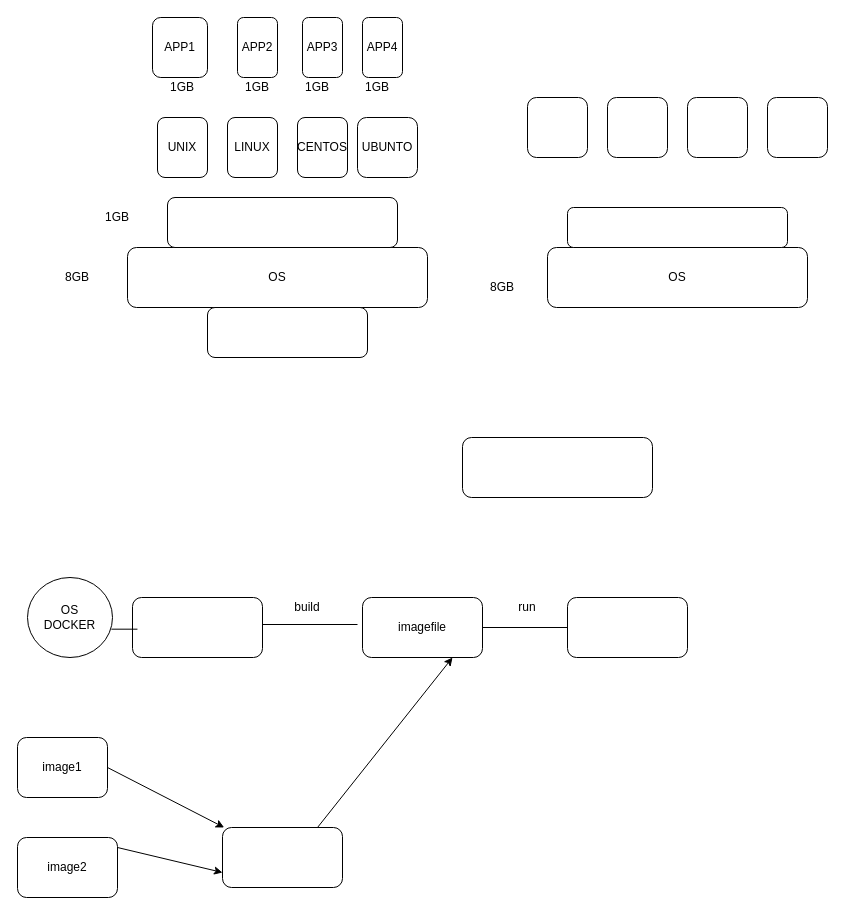
Image size: 845x915. Some labels were removed from this diagram. The centre of each missing label's shape, as x and y in pixels:
"conatiner" belongs at point 627,627.
"DOCKER" belongs at point 677,227.
"docker hub" belongs at point 282,857.
"HARDWARE" belongs at point 287,332.
"HYPERVIJER:VM,ORCAL VM WARE,HYPER-V" belongs at point 557,467.
"HYPERVIZER" belongs at point 282,222.
"textfile:" belongs at point 197,627.
